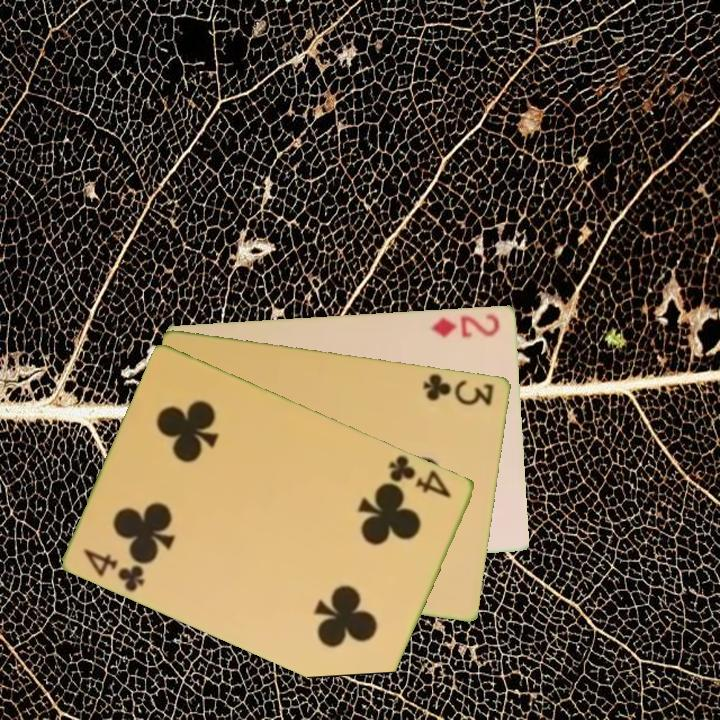2d: (427, 310, 503, 340)
3c: (419, 369, 497, 408)
4c: (385, 451, 455, 501), (80, 545, 148, 595)
